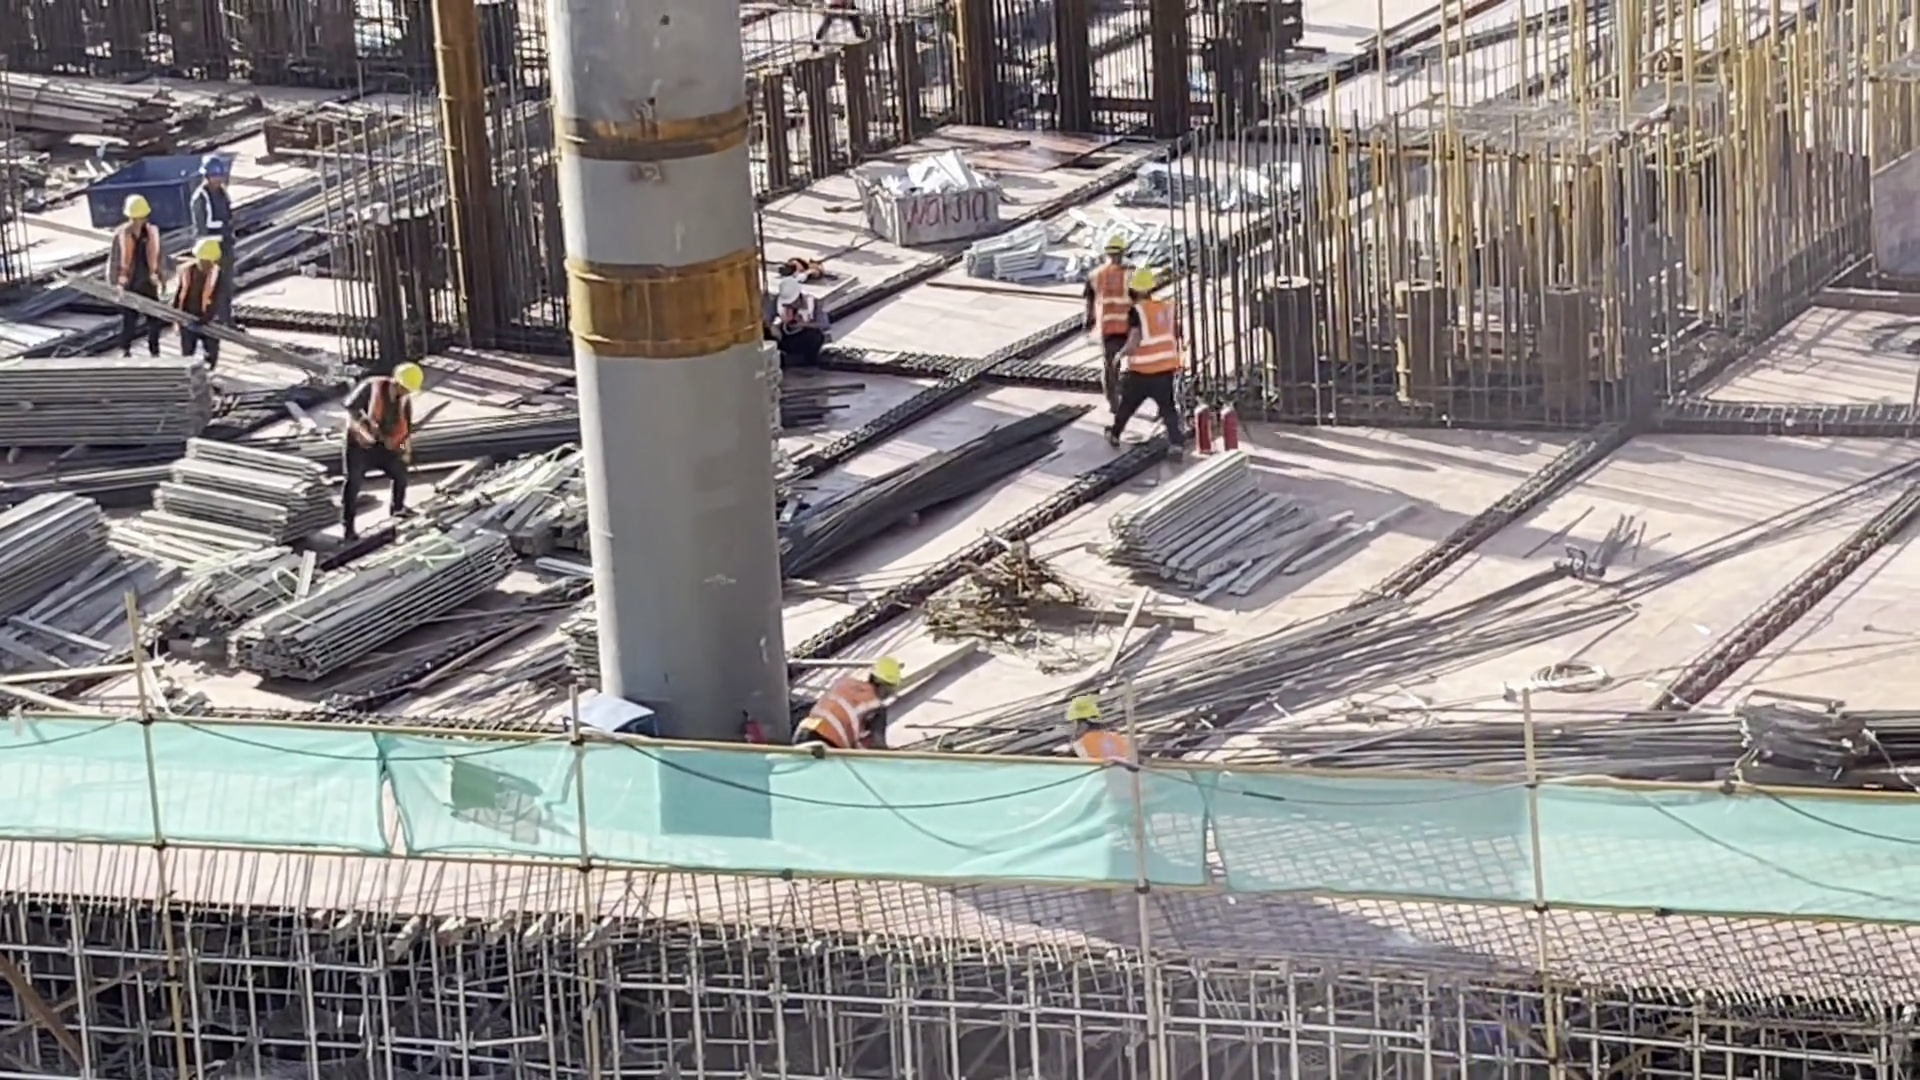helmet: (1062, 685, 1100, 728), (866, 649, 899, 687), (397, 361, 422, 402), (1130, 265, 1158, 295), (115, 194, 151, 216), (774, 282, 803, 302), (1110, 228, 1132, 246), (204, 156, 234, 169)
hopper: (856, 138, 1007, 248), (86, 146, 238, 211)
person: (336, 330, 423, 534), (1123, 262, 1196, 450), (808, 638, 912, 761), (100, 190, 170, 368), (1064, 222, 1132, 394), (1044, 690, 1147, 775), (754, 267, 840, 368), (185, 145, 240, 280), (180, 224, 221, 360)
vest: (818, 665, 880, 756), (355, 374, 403, 464), (107, 228, 167, 285), (1092, 272, 1140, 339), (1132, 309, 1177, 374), (1071, 731, 1136, 774), (173, 257, 217, 306), (196, 189, 233, 234)
wood: (240, 526, 511, 679), (1107, 445, 1304, 604), (1, 339, 228, 468), (154, 437, 355, 552), (1, 482, 108, 646)
